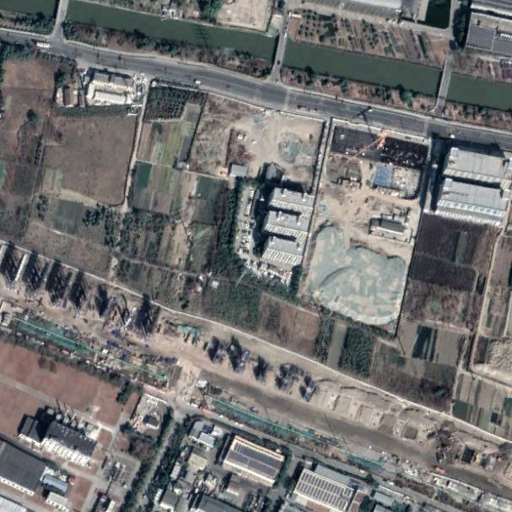cw: (300, 220, 406, 334)
